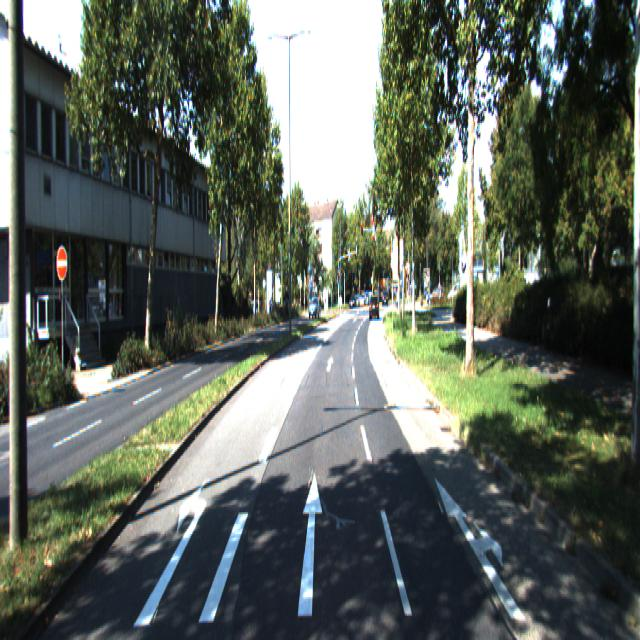Car: (308, 298, 320, 320), (370, 296, 380, 322)
